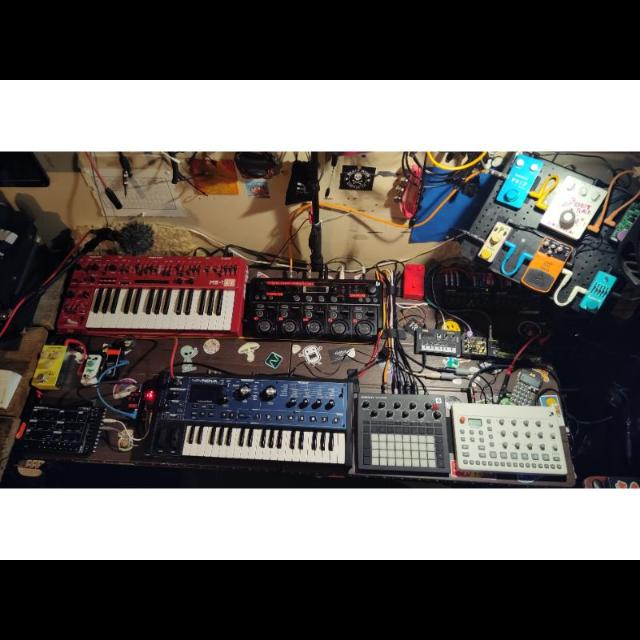Electronic-Keyboard: (157, 366, 350, 464), (55, 253, 246, 333)
